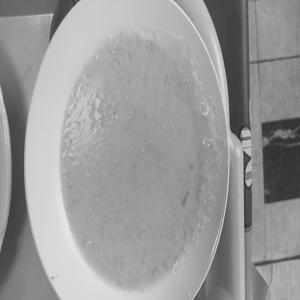porridge: (37, 32, 216, 282)
